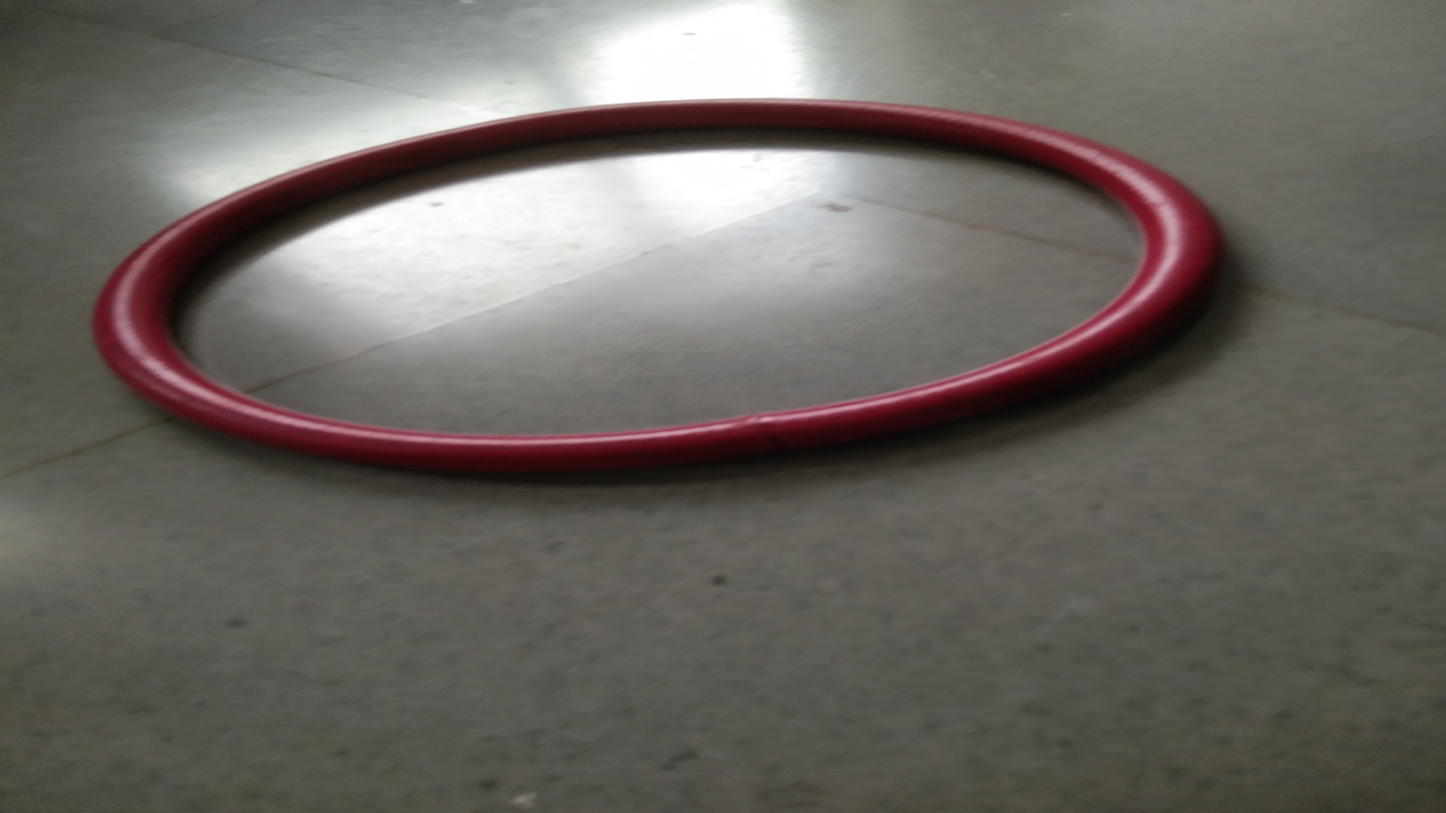Red ring: (97, 102, 1219, 473)
